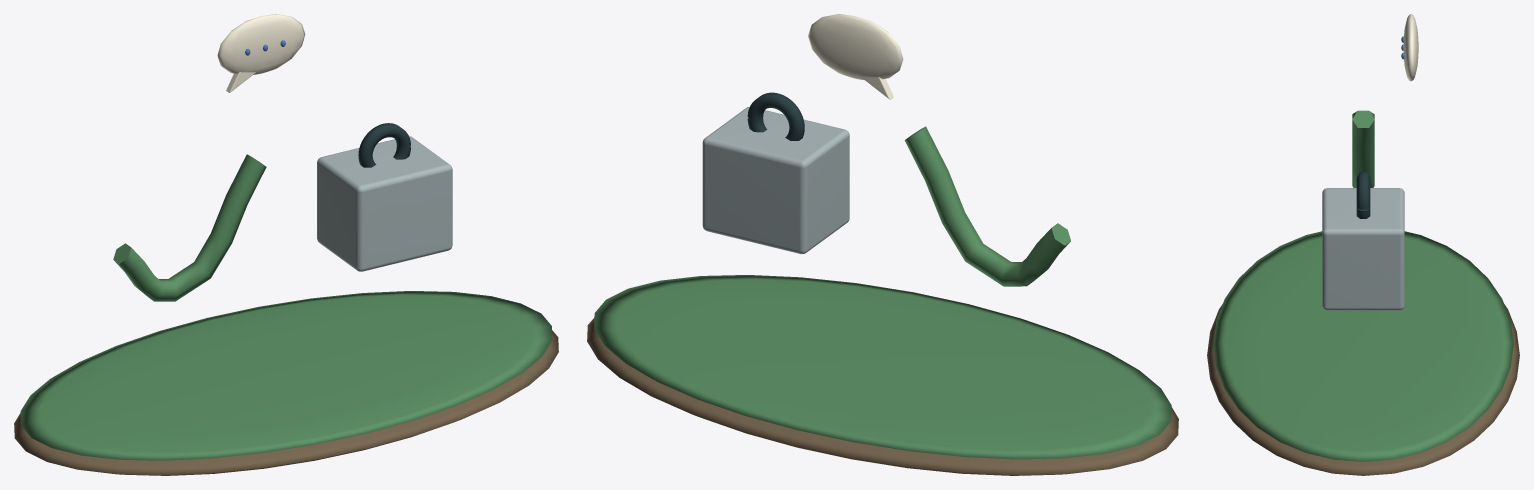
Rendered from complete-third-honest-solid-truth.glb.
3 renders of one model, left to right at view 1: azimuth 30°, elevation 25°; view 2: azimuth 150°, elevation 25°; view 3: azimuth 270°, elevation 25°, orthographic. The views are drawn at different scales.
Visible parts, largest first — view 1: complete-third-honest-solid-truth_surface_01, complete-third-honest-solid-truth_surface_02, complete-third-honest-solid-truth_surface_00, complete-third-honest-solid-truth_surface_04, complete-third-honest-solid-truth_surface_03; view 2: complete-third-honest-solid-truth_surface_01, complete-third-honest-solid-truth_surface_02, complete-third-honest-solid-truth_surface_00, complete-third-honest-solid-truth_surface_04, complete-third-honest-solid-truth_surface_03; view 3: complete-third-honest-solid-truth_surface_01, complete-third-honest-solid-truth_surface_02, complete-third-honest-solid-truth_surface_00, complete-third-honest-solid-truth_surface_04, complete-third-honest-solid-truth_surface_03.
Boxes of the visible parts, <box> form: complete-third-honest-solid-truth_surface_01: <box>20,154,552,460</box>; complete-third-honest-solid-truth_surface_02: <box>317,136,452,271</box>; complete-third-honest-solid-truth_surface_00: <box>14,330,558,475</box>; complete-third-honest-solid-truth_surface_04: <box>217,14,305,92</box>; complete-third-honest-solid-truth_surface_03: <box>358,123,410,167</box>; complete-third-honest-solid-truth_surface_01: <box>594,126,1171,459</box>; complete-third-honest-solid-truth_surface_02: <box>702,107,849,254</box>; complete-third-honest-solid-truth_surface_00: <box>587,318,1178,475</box>; complete-third-honest-solid-truth_surface_04: <box>808,14,903,99</box>; complete-third-honest-solid-truth_surface_03: <box>747,92,804,140</box>; complete-third-honest-solid-truth_surface_01: <box>1213,110,1513,461</box>; complete-third-honest-solid-truth_surface_02: <box>1322,188,1404,310</box>; complete-third-honest-solid-truth_surface_00: <box>1207,304,1519,475</box>; complete-third-honest-solid-truth_surface_04: <box>1403,14,1418,81</box>; complete-third-honest-solid-truth_surface_03: <box>1356,172,1370,218</box>.
Bounding box in the file's own units: 4.56 × 3.08 × 2.5.
